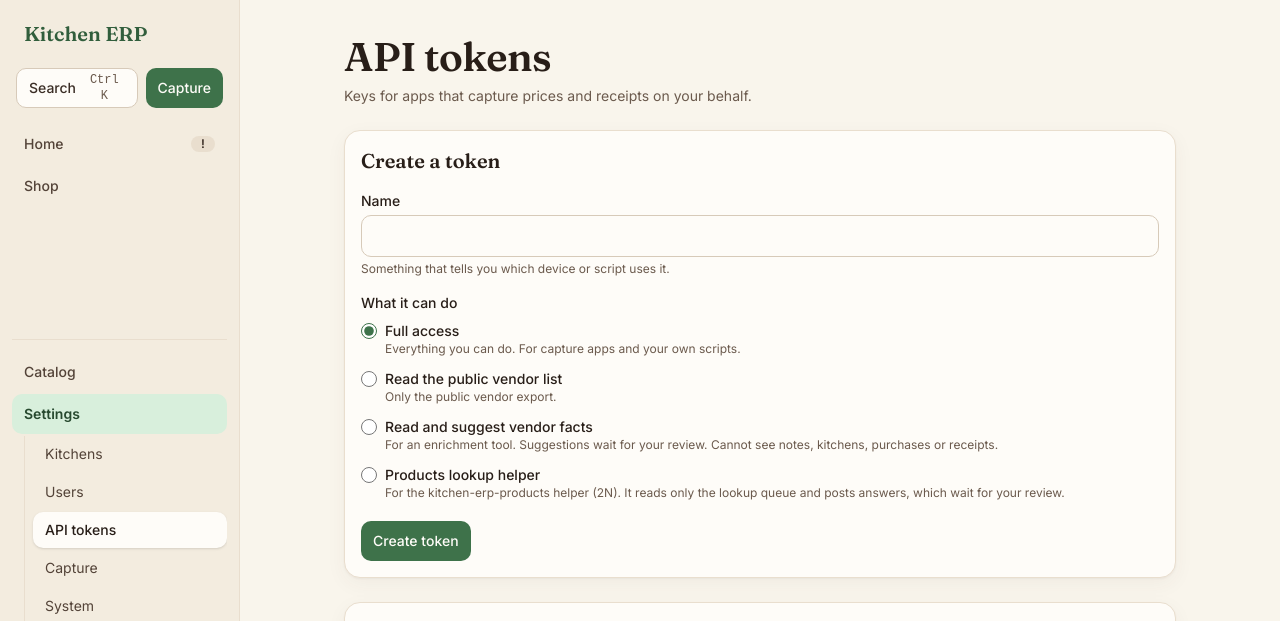
Scenario: api tokens › shows a new token's plaintext exactly once and never in the list
Type "phone" into the field labelled "Name". click: (760, 236)
box: [361,215,1159,257]
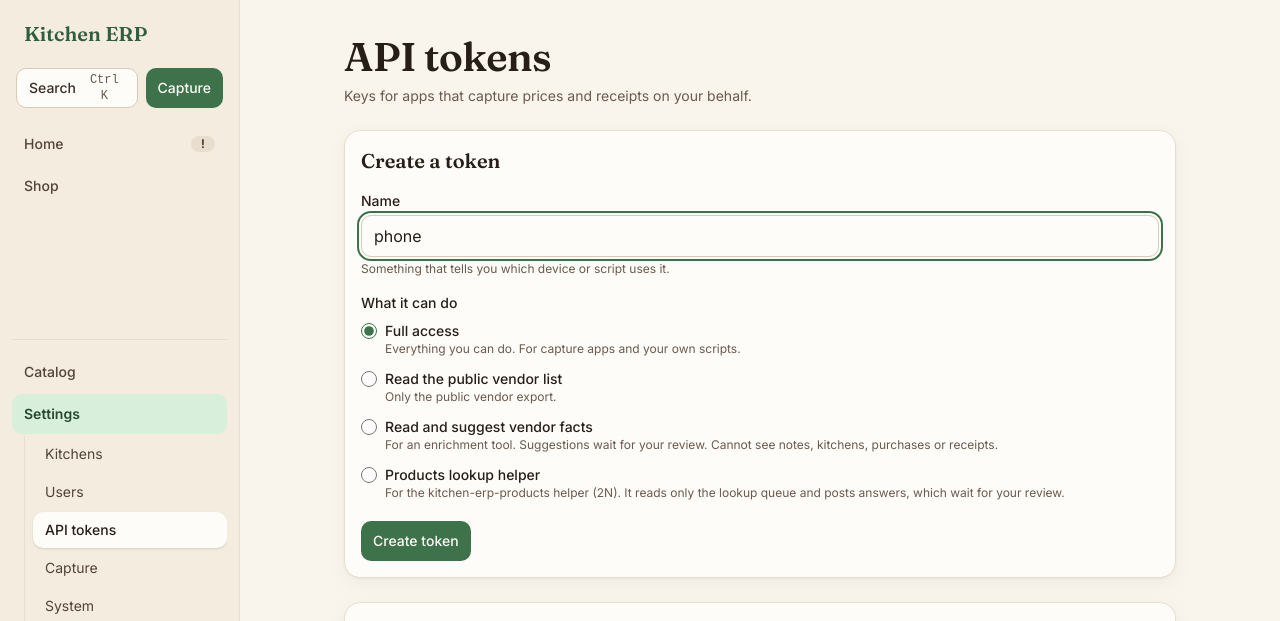
Click the button "Create token". click: (416, 541)
box: [361,521,471,561]
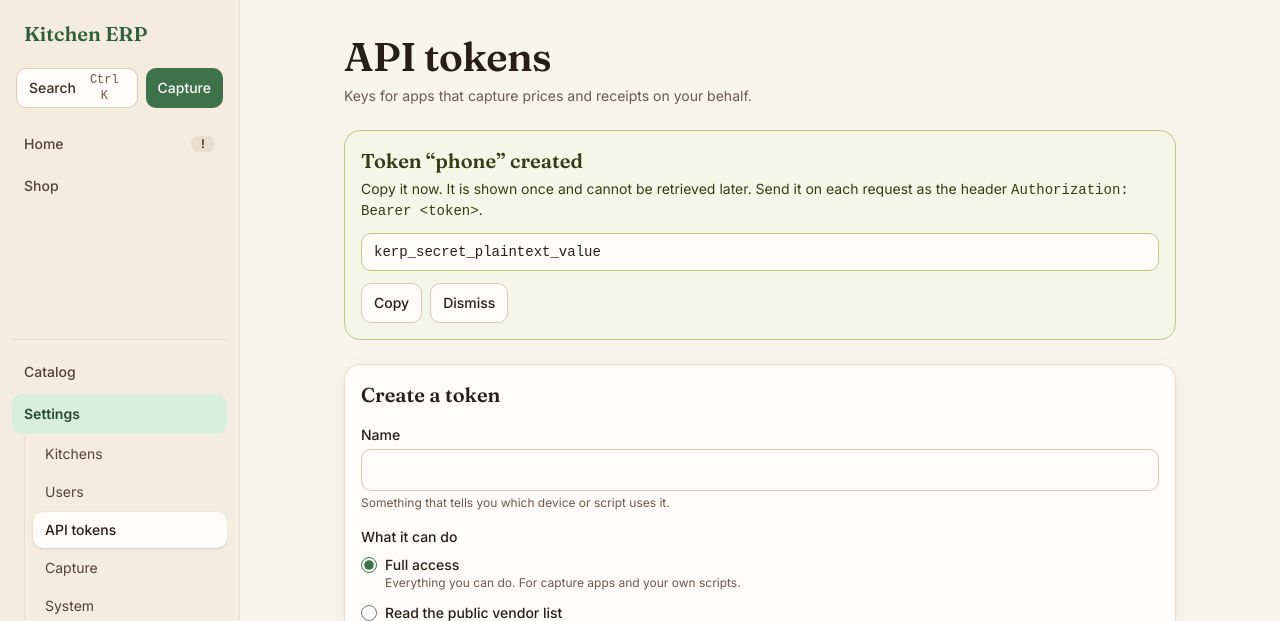
Check: the text with test id "token-plaintext" reads "kerp_secret_plaintext_value", box [374,244,601,260]
Click the button "Dismiss". click: (469, 303)
box: [430,283,508,323]
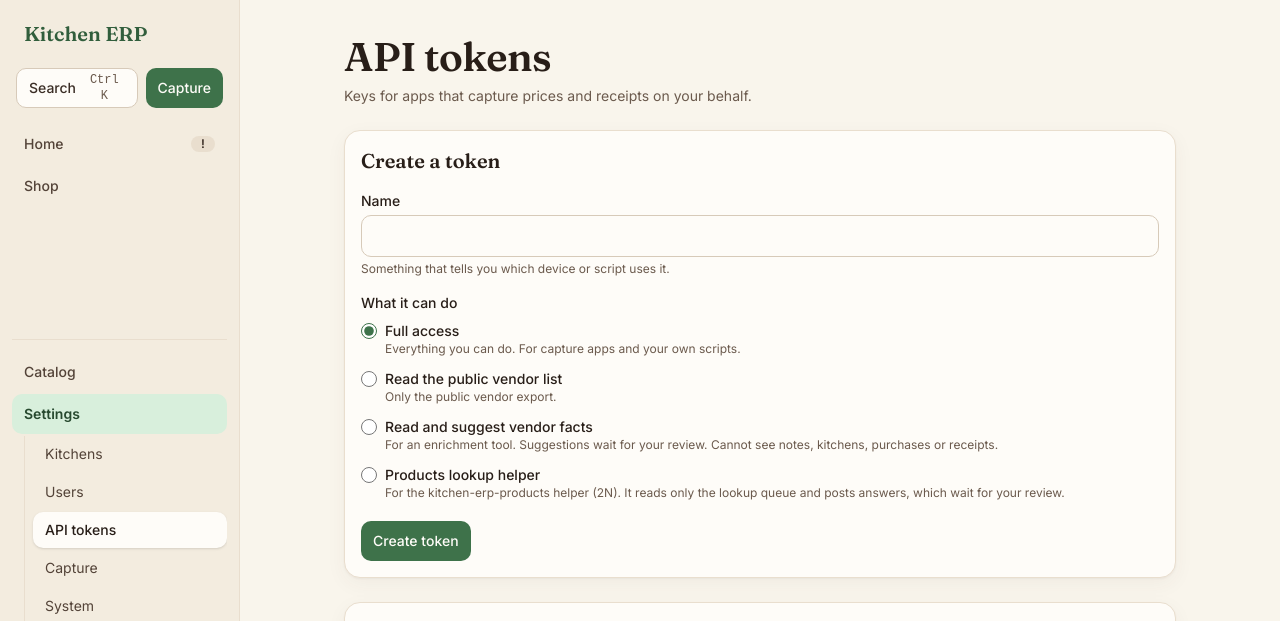
Check: the text with test id "token-plaintext" is gone
Check: the text "kerp_secret" is gone
